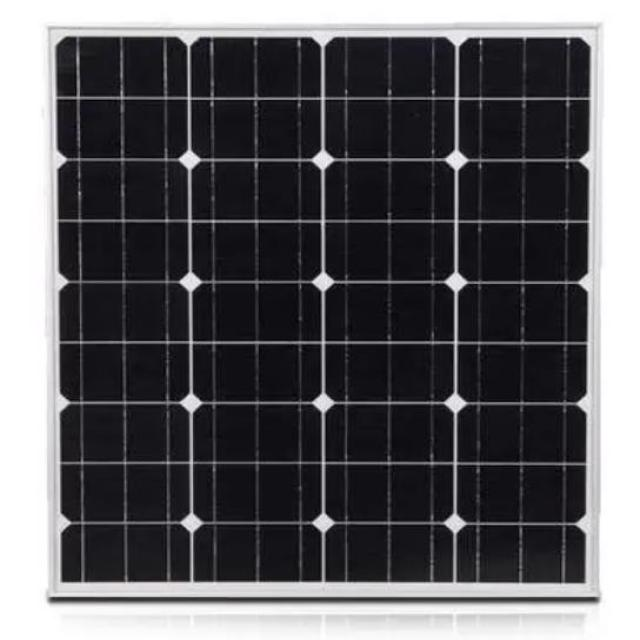clean-solar-panel: (51, 25, 599, 595)
